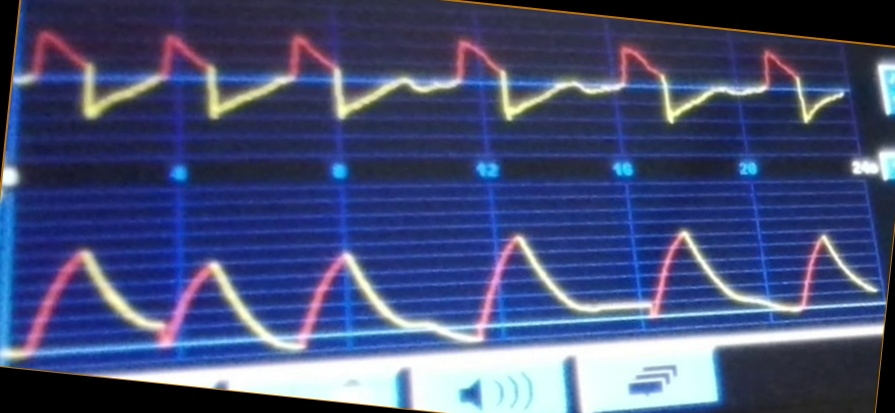Ineffective_effort Flow: (23, 24, 846, 138)
Ineffective_effort Volume: (13, 229, 876, 354)
